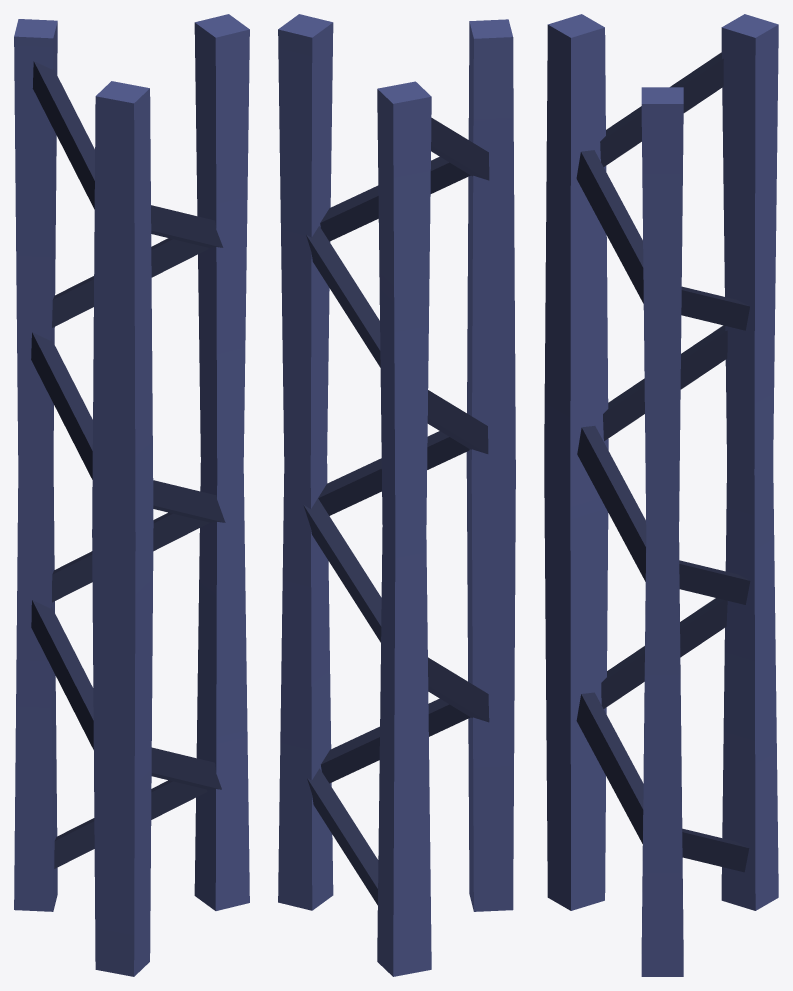
File: Armature1.FBX
3 renders of one model, left to right at view 1: azimuth 30°, elevation 25°; view 2: azimuth 150°, elevation 25°; view 3: azimuth 270°, elevation 25°, orthographic.
Visible parts, largest first — view 1: Armature1; view 2: Armature1; view 3: Armature1.
Boxes of the visible parts, x1,y1,x2,y2 form: Armature1: [14, 14, 249, 976]; Armature1: [278, 14, 515, 976]; Armature1: [544, 14, 778, 976].
Bounding box in the file's own units: 17.28 × 76.98 × 18.75.
